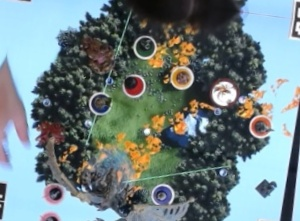blue: (86, 87, 115, 117)
green: (131, 32, 159, 62)
orange: (243, 110, 277, 141)
pink: (40, 179, 68, 205)
red: (118, 68, 149, 101)
violet: (148, 178, 178, 208)
yellow: (167, 62, 198, 92)
